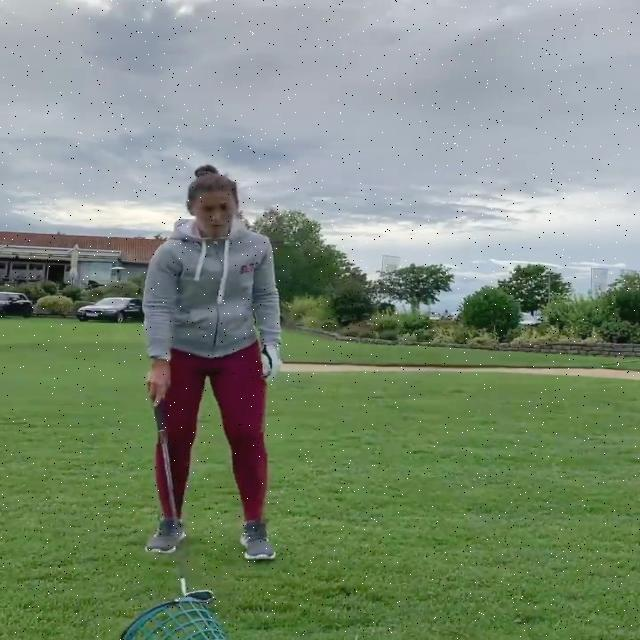golf club-handle: (156, 400, 215, 603)
golf club-head: (187, 590, 215, 603)
